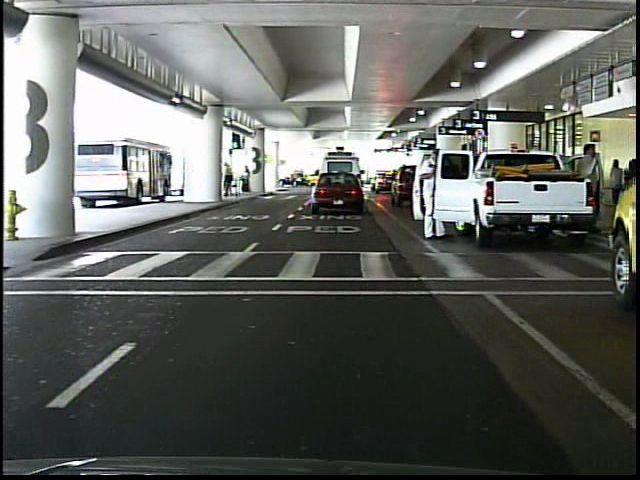person: (416, 142, 453, 244), (572, 139, 605, 226), (222, 159, 235, 198), (240, 164, 255, 195)
